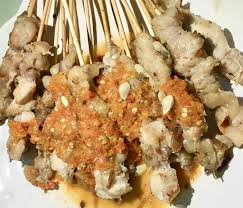sate: (3, 6, 243, 206)
